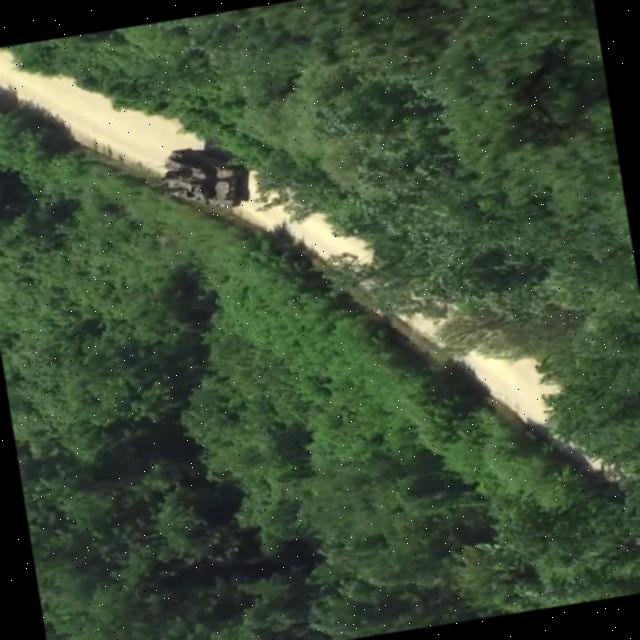korea tank: (142, 137, 254, 222)
